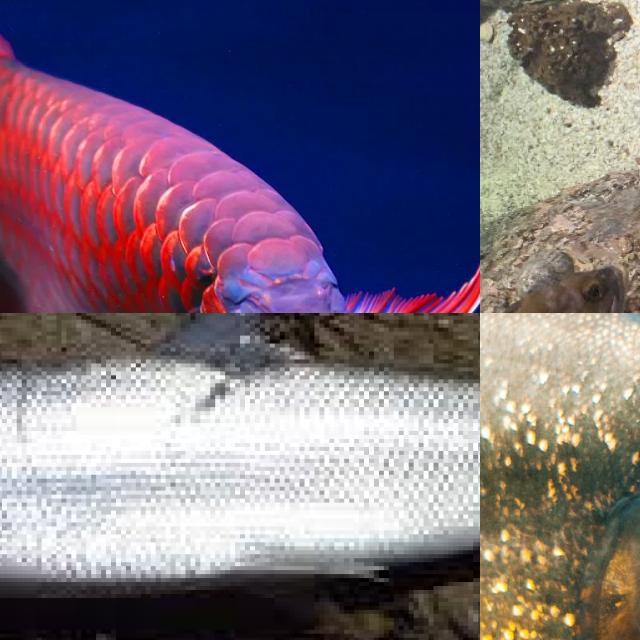fish: (0, 0, 480, 313), (0, 313, 480, 614), (480, 433, 640, 640)
